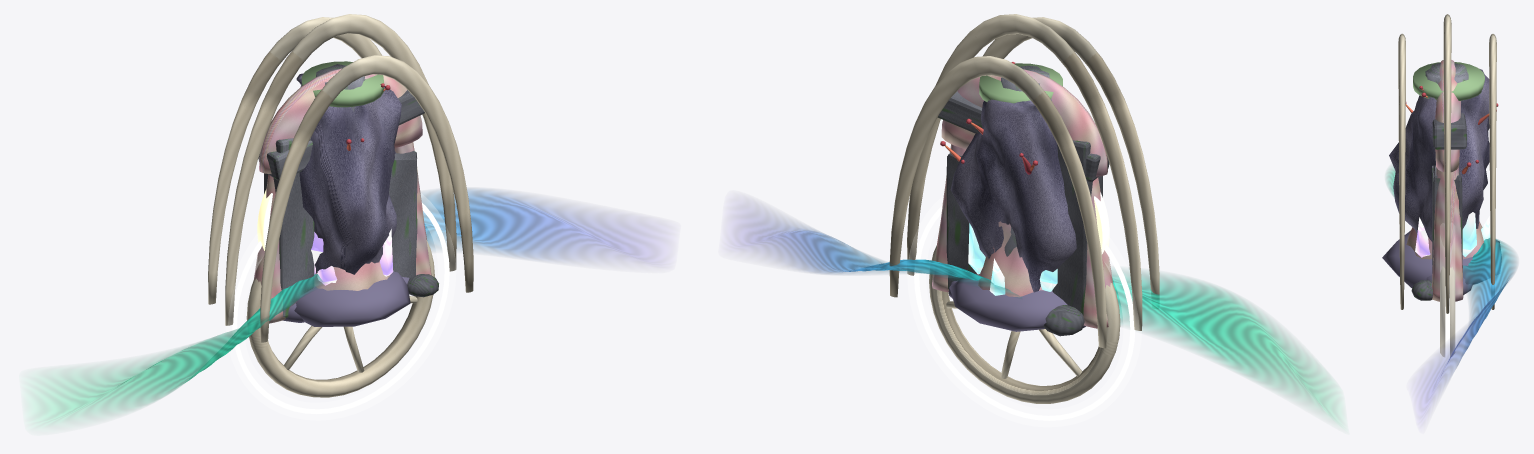
File: props.glb
3 renders of one model, left to right at view 1: azimuth 30°, elevation 25°; view 2: azimuth 150°, elevation 25°; view 3: azimuth 270°, elevation 25°, orthographic. The views are drawn at different scales.
Visible parts, largest first — view 1: aurora_ribbon, rock_spire, rib_gate, halo_ring, ruin_gate, bone_rib, bone_wheel, shell_arch, crystal_cluster_big, shell_spire; view 2: aurora_ribbon, rock_spire, rib_gate, halo_ring, bone_rib, ruin_gate, bone_wheel, shell_arch, crystal_cluster_big, shell_spire; view 3: rock_spire, aurora_ribbon, shell_arch, rib_gate, crystal_cluster_big, bone_rib, ruin_gate, halo_ring, bone_wheel, shell_spire, stone_pillar, coral_tree.
Boxes of the visible parts, x1,y1,x2,y2 form: aurora_ribbon: (33, 188, 667, 425); rock_spire: (296, 61, 401, 274); rib_gate: (208, 17, 473, 342); halo_ring: (226, 193, 455, 420); ruin_gate: (258, 90, 438, 317); bone_rib: (225, 14, 456, 325); bone_wheel: (246, 240, 434, 397); shell_arch: (254, 68, 431, 323); crystal_cluster_big: (294, 229, 410, 326); shell_spire: (314, 261, 389, 290); aurora_ribbon: (728, 200, 1340, 424); rock_spire: (950, 63, 1076, 292); rib_gate: (889, 17, 1159, 348); halo_ring: (907, 196, 1141, 426); bone_rib: (907, 14, 1142, 330); ruin_gate: (937, 91, 1109, 336); bone_wheel: (929, 244, 1120, 403); shell_arch: (932, 69, 1113, 328); crystal_cluster_big: (949, 223, 1067, 331); shell_spire: (977, 221, 1043, 297); rock_spire: (1389, 62, 1489, 241); aurora_ribbon: (1386, 166, 1517, 421); shell_arch: (1432, 60, 1463, 301); rib_gate: (1398, 33, 1496, 309); crystal_cluster_big: (1382, 212, 1501, 287); bone_rib: (1443, 14, 1451, 313); ruin_gate: (1411, 113, 1466, 300); halo_ring: (1440, 223, 1454, 378); bone_wheel: (1440, 266, 1455, 357); shell_spire: (1406, 221, 1483, 259); stone_pillar: (1425, 63, 1468, 83); coral_tree: (1405, 86, 1498, 174).
Size of the model in its own units: 24 by 14.42 by 5.16.
16 materials, 7 textured.
